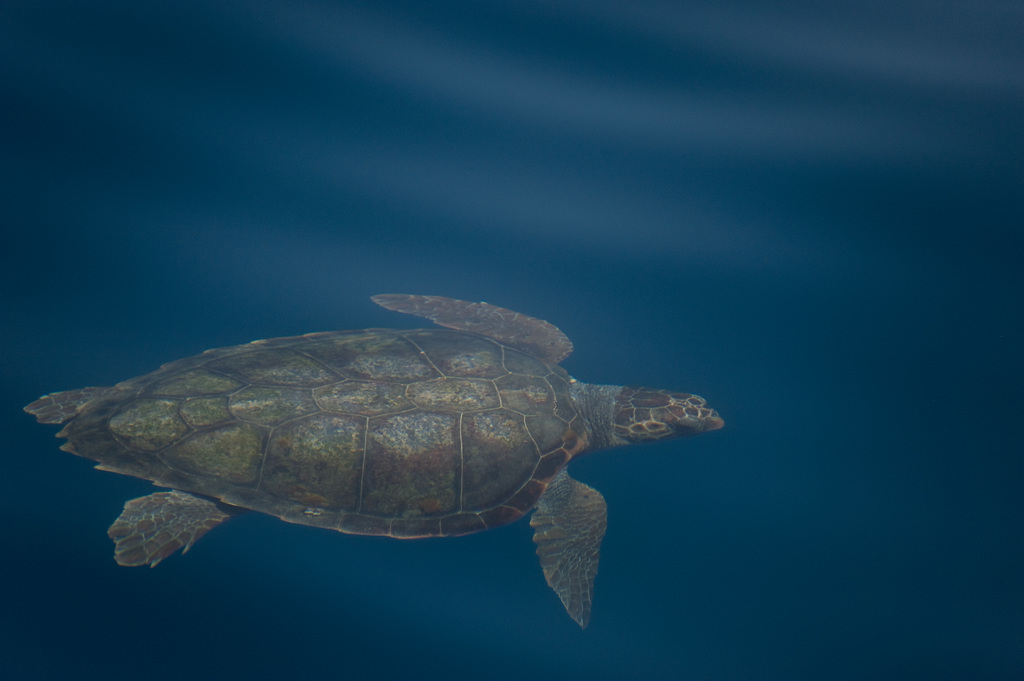Sea turtles: (16, 291, 720, 633)
